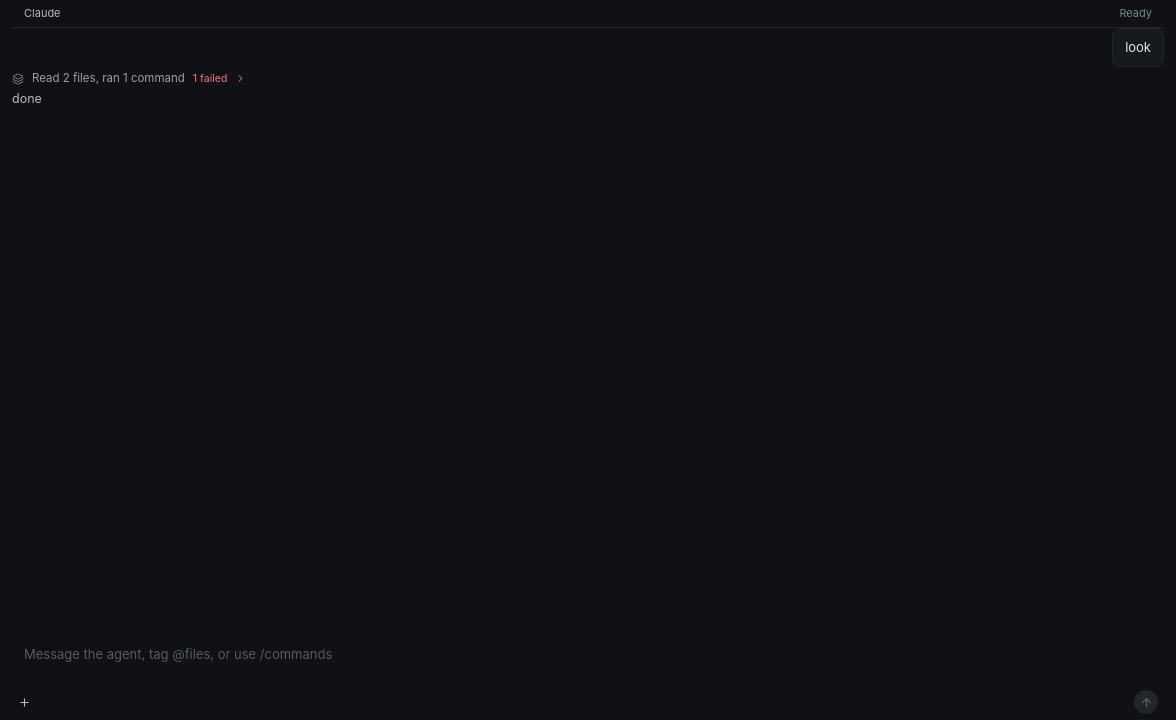
Test: folding tool runs › folds a finished turn's run to a summary that expands
expect the text "Read a.rs" is not shown: met
Click the text "Read 2 files, ran 1 command" at [108, 79], box top-left (32, 70), bottom-right (185, 87)
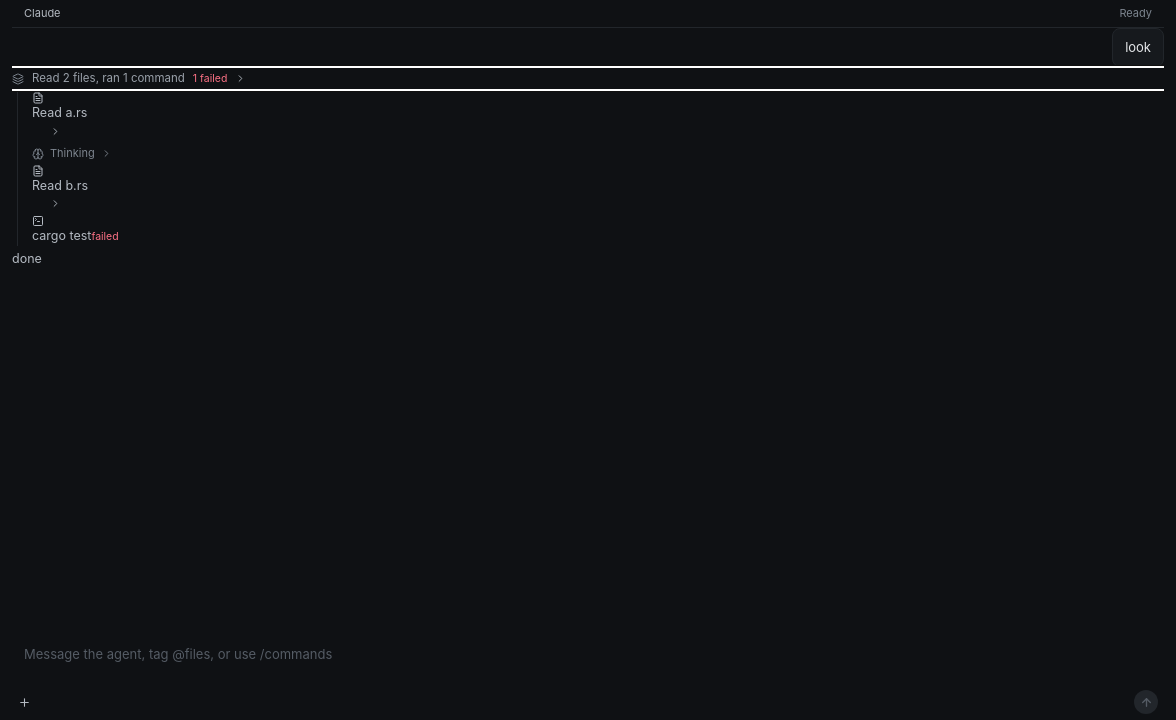
expect the text "1 failed" is shown: met, box top-left (193, 71), bottom-right (227, 87)
expect the text "Read a.rs" is shown: met, box top-left (32, 105), bottom-right (87, 120)
